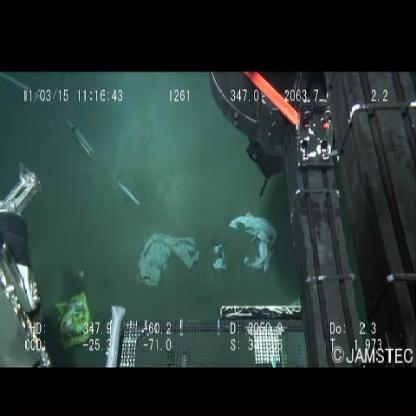Rov: (205, 73, 416, 303), (104, 302, 416, 367), (1, 158, 54, 367)
Rác: (208, 212, 283, 286), (133, 228, 203, 286), (51, 288, 95, 356)
